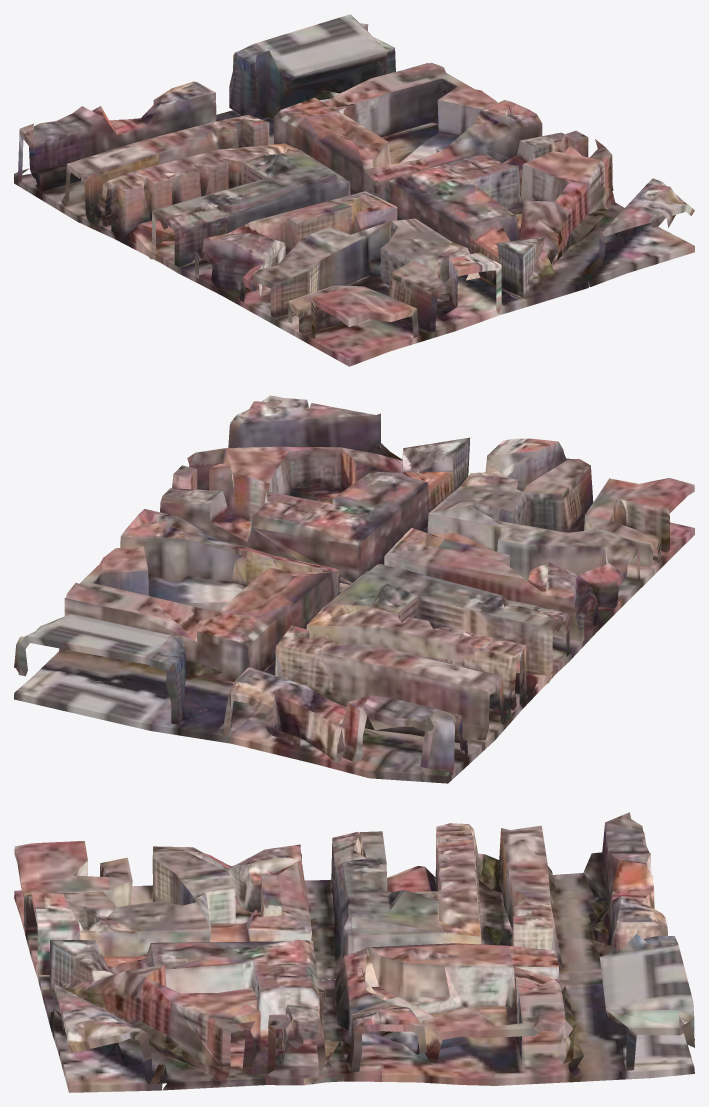
3 renders of one model, top to bottom at view 1: azimuth 30°, elevation 25°; view 2: azimuth 150°, elevation 25°; view 3: azimuth 270°, elevation 25°, orthographic. The views are drawn at different scales.
Parts seen in each view (by area): view 1: Mesh_0; view 2: Mesh_0; view 3: Mesh_0.
Boxes of the visible parts, x1,y1,x2,y2 form: Mesh_0: (14, 14, 694, 366); Mesh_0: (14, 395, 694, 783); Mesh_0: (14, 812, 694, 1092).
Size of the model in its own units: 266 by 48.23 by 330.
2 materials, 2 textured.
